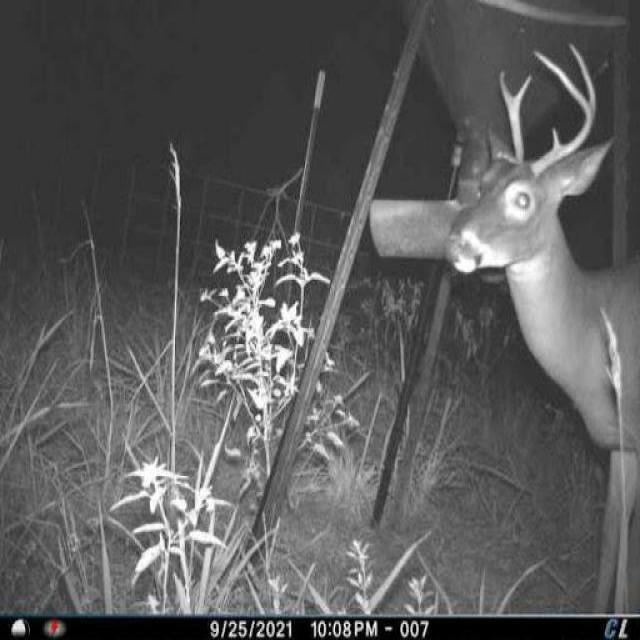deer: (441, 31, 640, 612)
